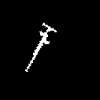double_crochet: (25, 23, 55, 71)
